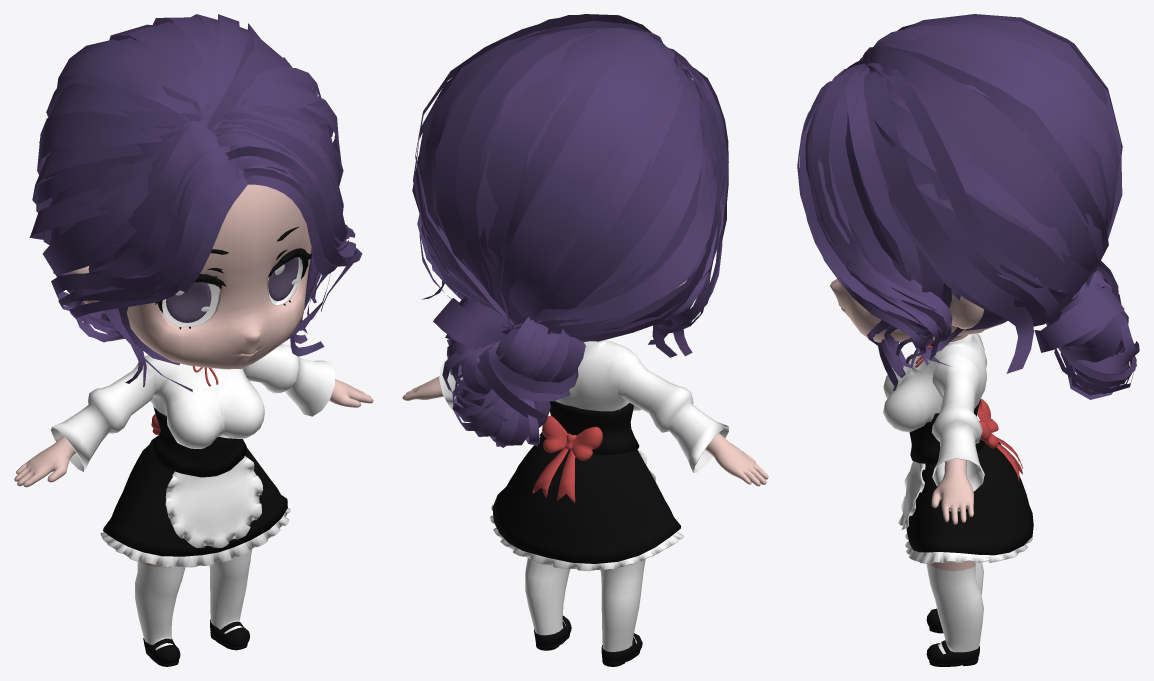
The model's file is Maid3 (1).fbx.
The picture shows the model from 3 angles, left to right: view 1: azimuth 30°, elevation 25°; view 2: azimuth 150°, elevation 25°; view 3: azimuth 270°, elevation 25°; orthographic projection.
Visible parts, largest first — view 1: Maid 3; view 2: Maid 3; view 3: Maid 3.
Part boxes in pixels (box(x1,y1,x2,y2)): Maid 3: box(14, 14, 373, 666); Maid 3: box(402, 14, 768, 666); Maid 3: box(797, 14, 1139, 666).
Size of the model in its own units: 82.77 by 136 by 68.65.
